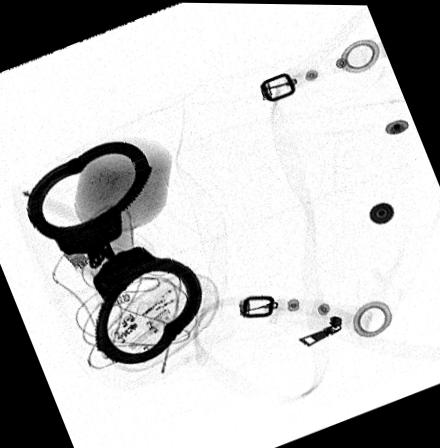HandCuffs: (18, 137, 204, 364)
